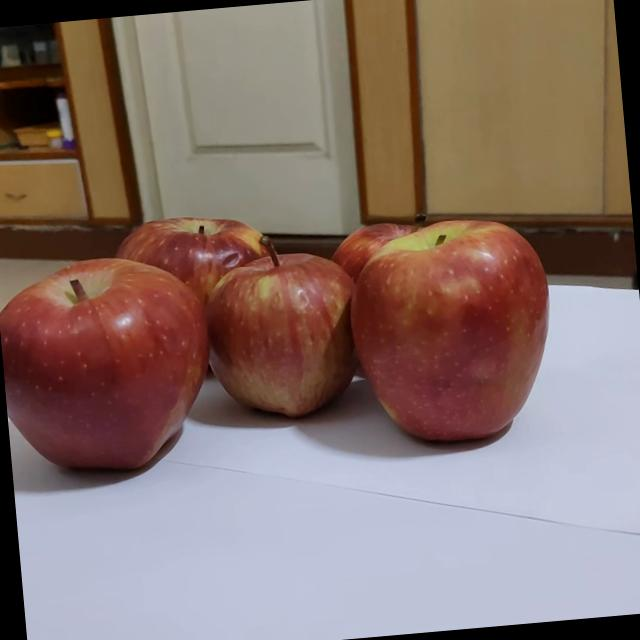apple: (2, 257, 255, 524), (88, 205, 300, 408), (387, 223, 589, 432), (226, 252, 406, 432), (323, 210, 476, 358)
